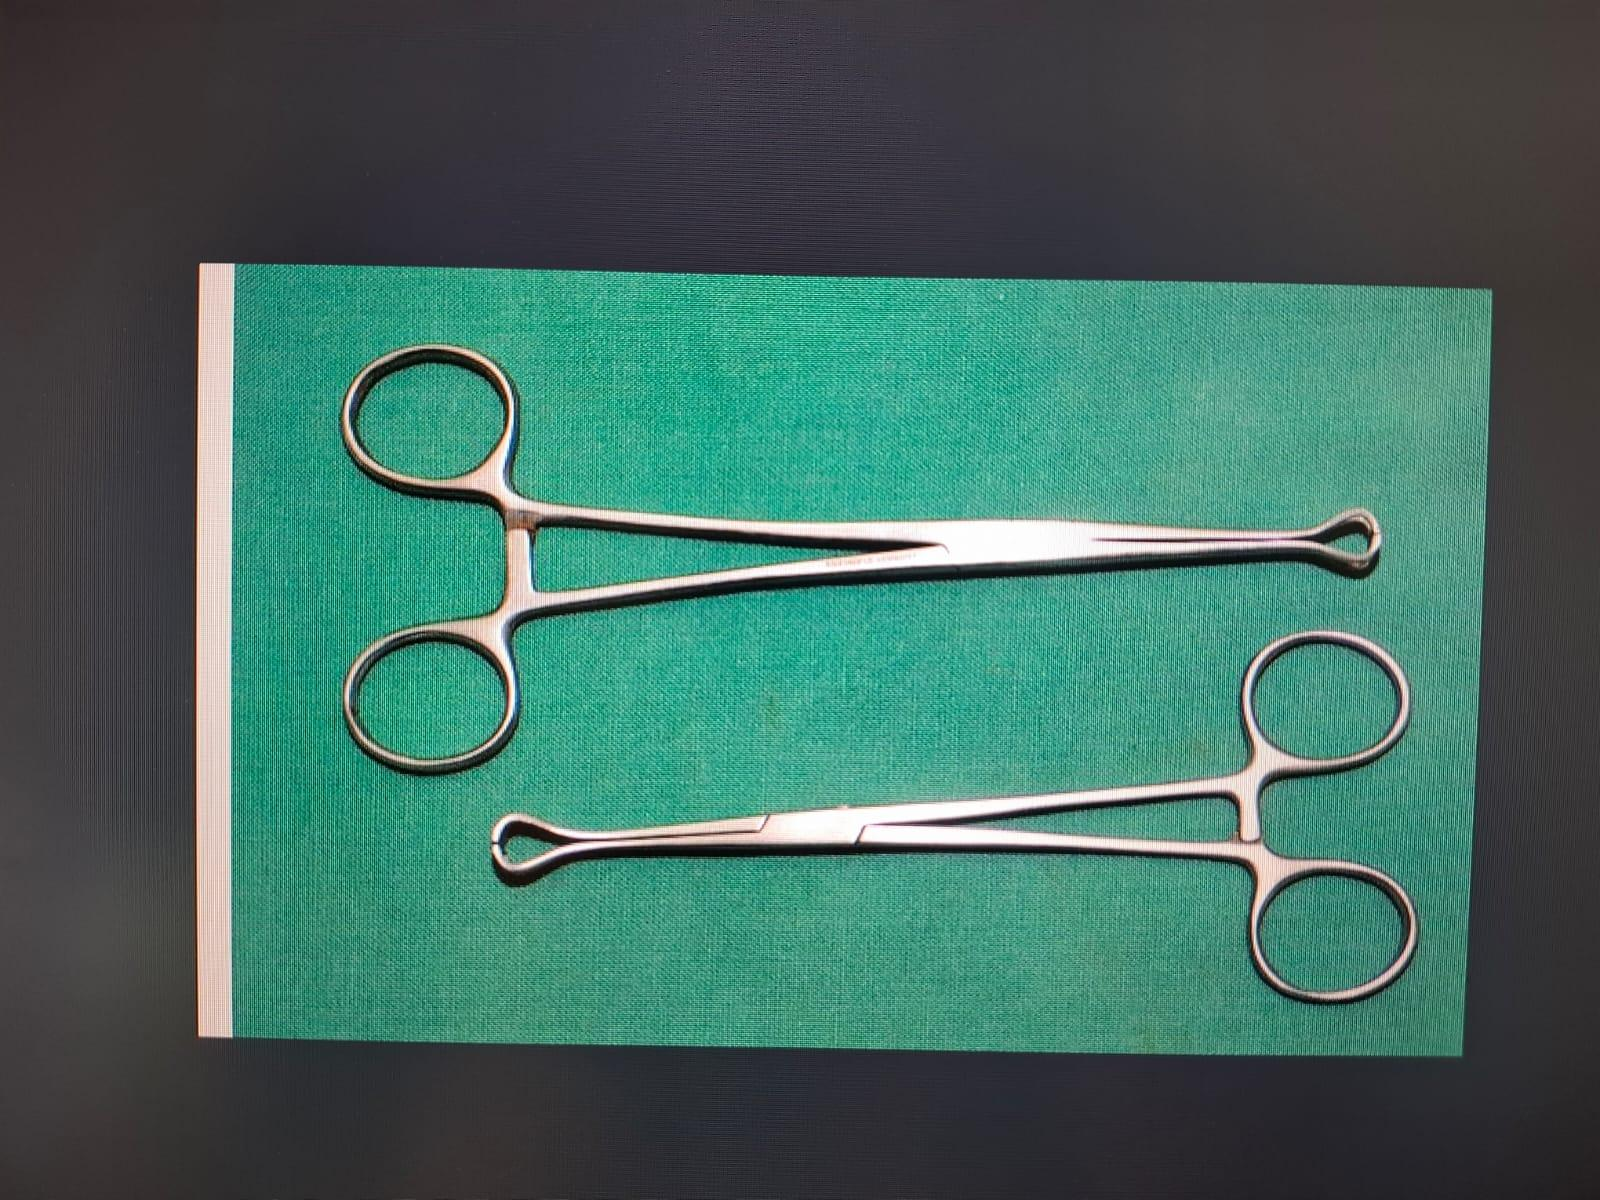Babcock Forceps: (336, 326, 1392, 776), (486, 622, 1442, 1016)
